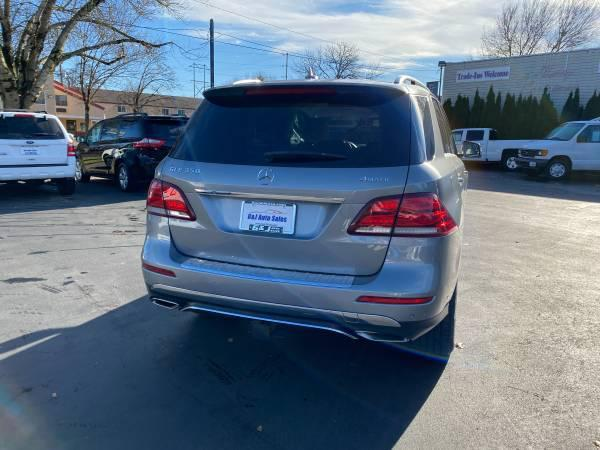Left_Taillight: (147, 179, 196, 221)
Rear_Bumper: (140, 214, 461, 341)
Rear_Fender: (403, 96, 467, 233)
Rear_Windshield: (168, 84, 413, 168)
Right_Taillight: (345, 194, 458, 238)
Tailgate: (153, 158, 406, 276)
